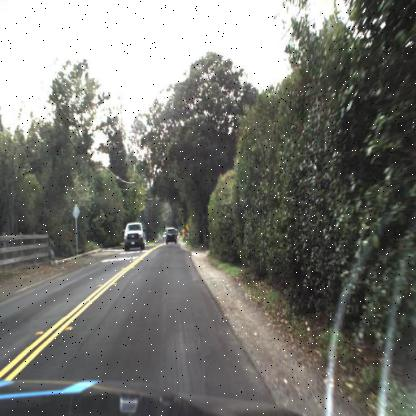car: (122, 221, 145, 253), (165, 225, 179, 248)
